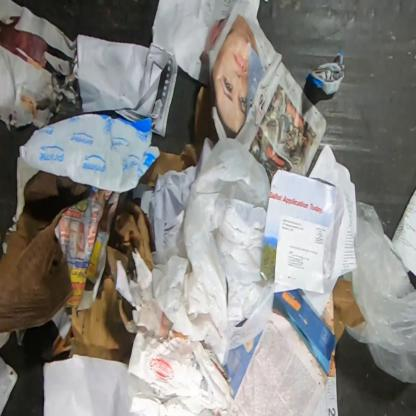cardboard: (42, 198, 152, 363), (0, 170, 92, 333), (139, 86, 215, 188), (333, 278, 366, 342)
soft_plastic: (154, 137, 274, 365), (345, 202, 416, 386), (20, 112, 160, 192), (305, 50, 345, 96)
